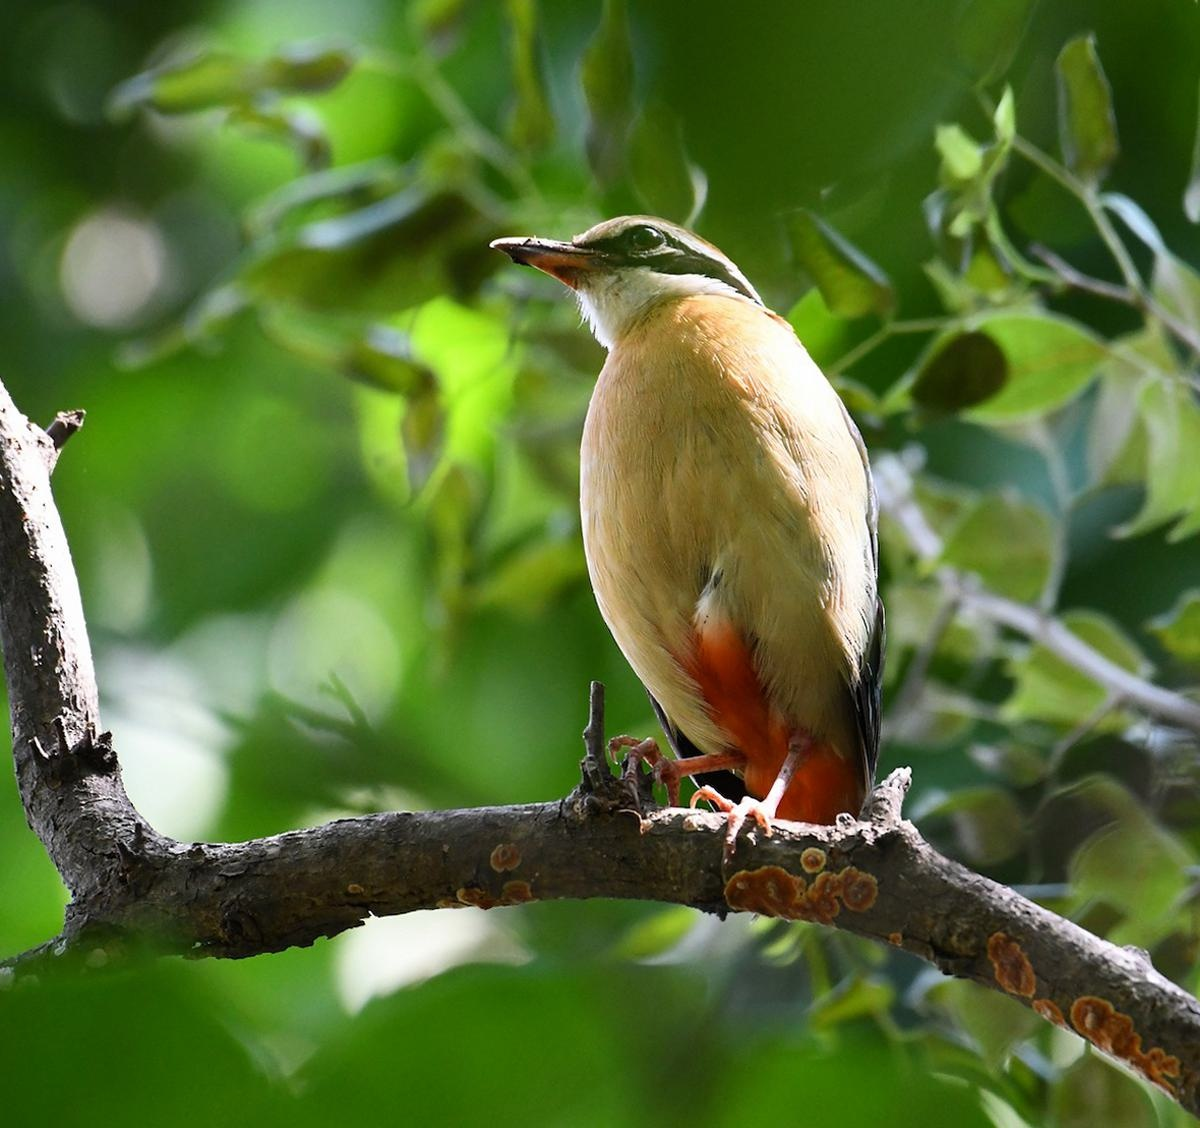pitta: (478, 171, 946, 846)
